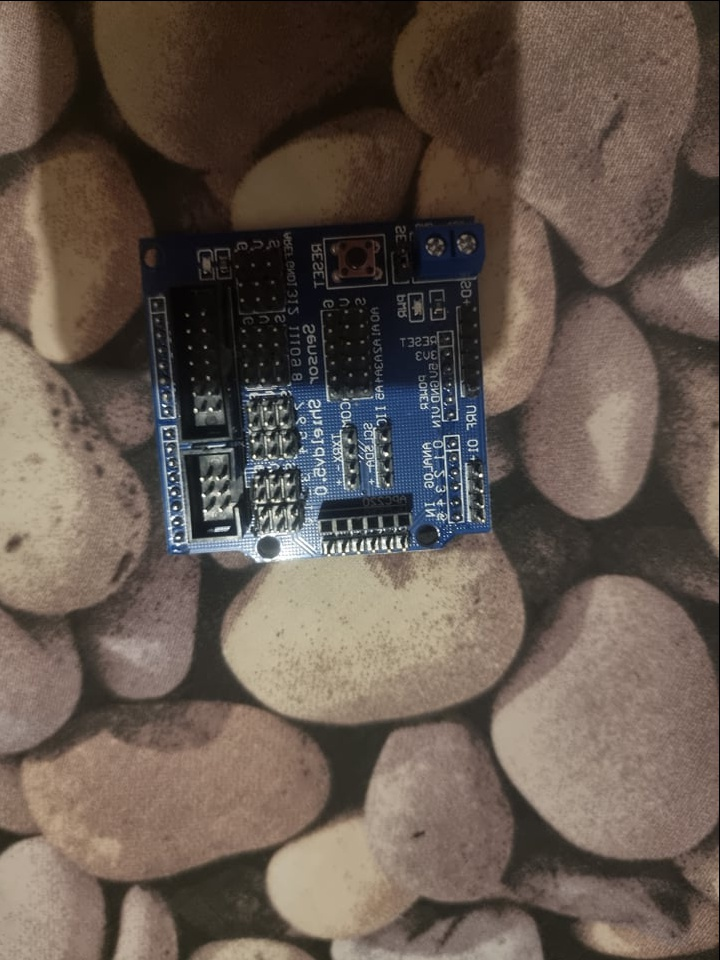5V EXPANSION: (135, 215, 495, 557)
